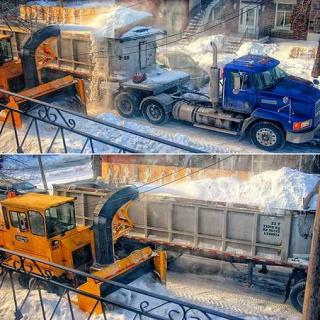Towing_truck: (111, 48, 319, 152)
